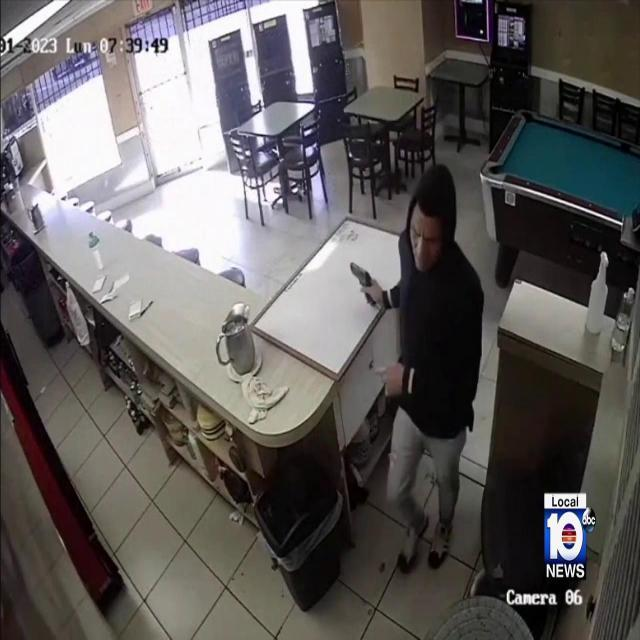pistol: (349, 260, 378, 310)
